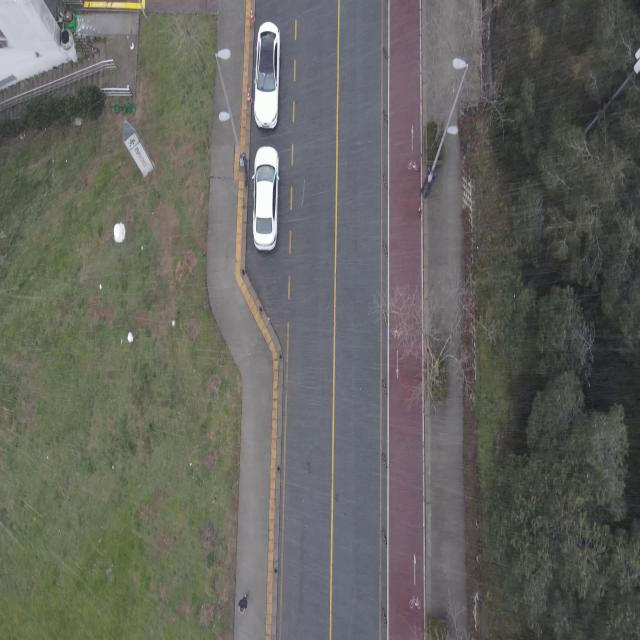p3rson: (238, 592, 248, 614)
